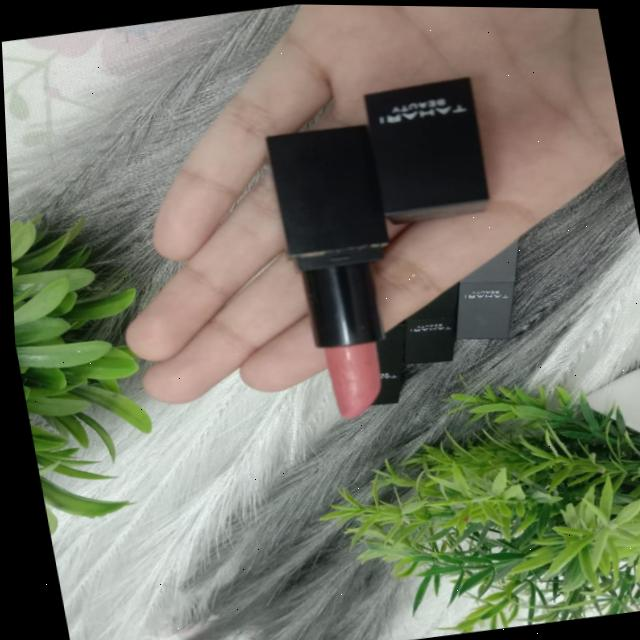lip shade: (256, 81, 420, 430)
